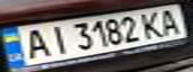1: (90, 18, 109, 47)
2: (118, 14, 145, 43)
3: (69, 20, 93, 52)
8: (103, 16, 127, 46)
A: (15, 26, 54, 60), (154, 7, 187, 36)
I: (42, 22, 72, 55)
K: (136, 9, 169, 39)
